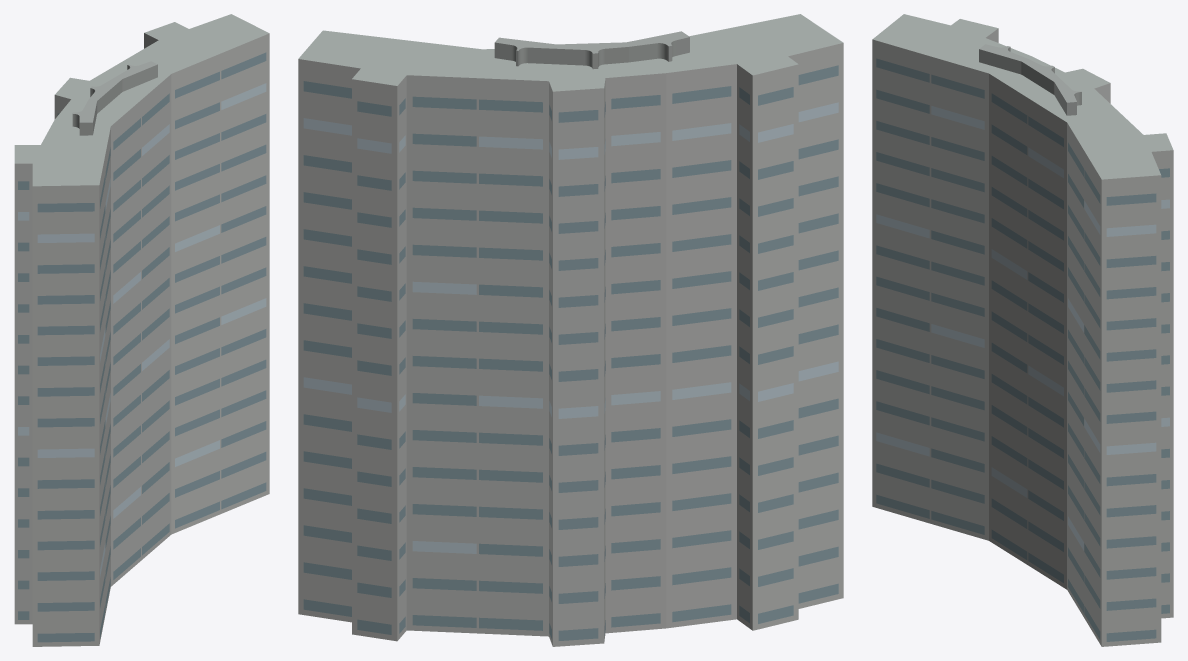
The model's file is fallback-seoulforest-riverview-xi-106.glb.
The picture shows the model from 3 angles, left to right: view 1: azimuth 30°, elevation 25°; view 2: azimuth 150°, elevation 25°; view 3: azimuth 270°, elevation 25°; orthographic projection. The views are drawn at different scales.
Parts seen in each view (by area): view 1: fallback-seoulforest-riverview-xi-106; view 2: fallback-seoulforest-riverview-xi-106; view 3: fallback-seoulforest-riverview-xi-106.
Boxes of the visible parts, bbox=[...] form: fallback-seoulforest-riverview-xi-106: bbox=[14, 14, 269, 646]; fallback-seoulforest-riverview-xi-106: bbox=[298, 14, 843, 646]; fallback-seoulforest-riverview-xi-106: bbox=[872, 14, 1173, 646].
Bounding box in the file's own units: 65.06 × 88 × 49.99.
